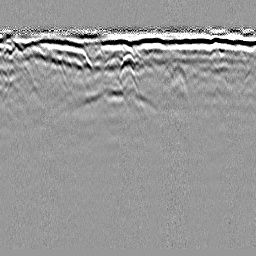cavity: (119, 53, 135, 67)
